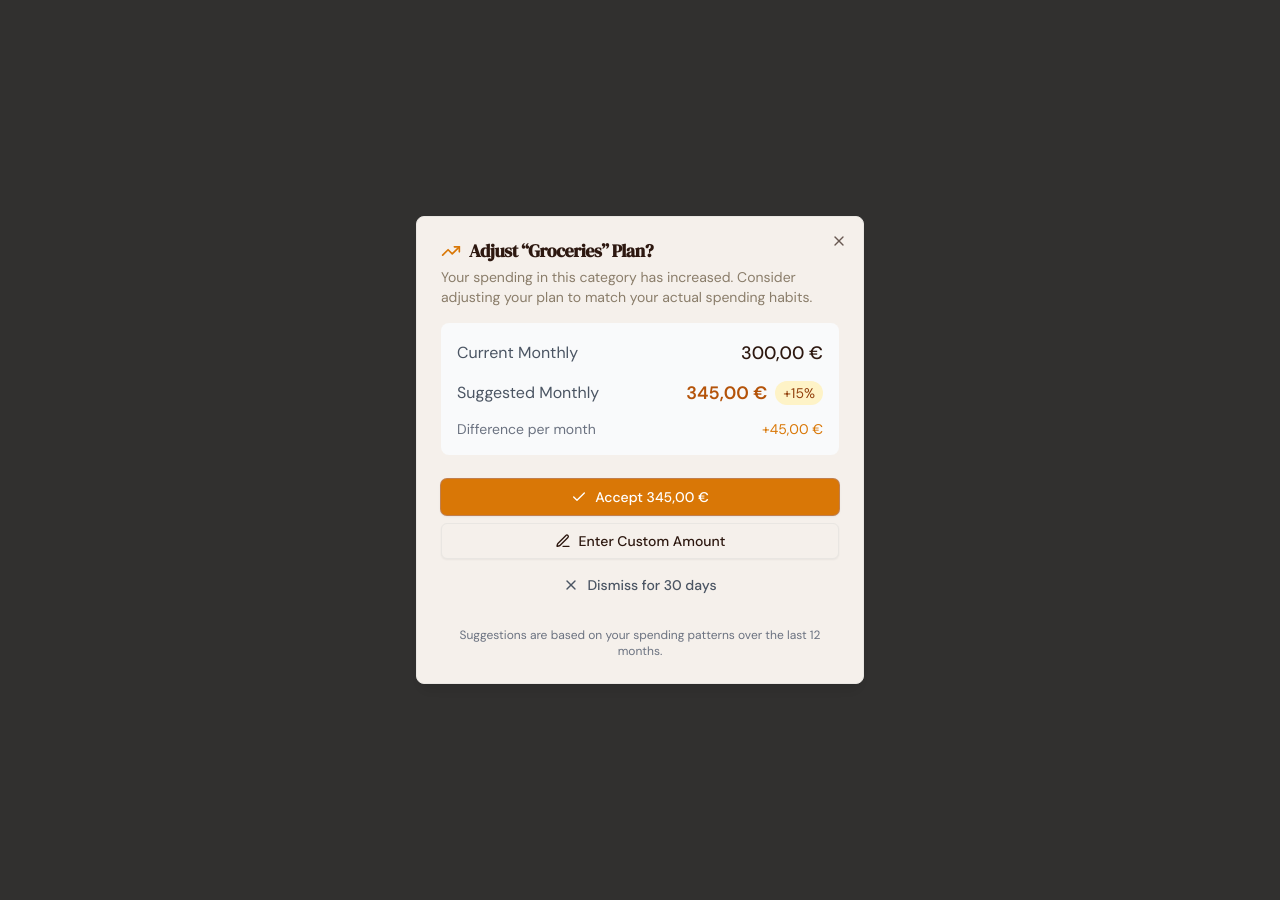
Test case: AdjustmentSuggestionModal › custom amount › should go back to main view when Back is clicked
Step 1. Click the button "Enter Custom Amount" → (640, 541), box [441,523,839,559]
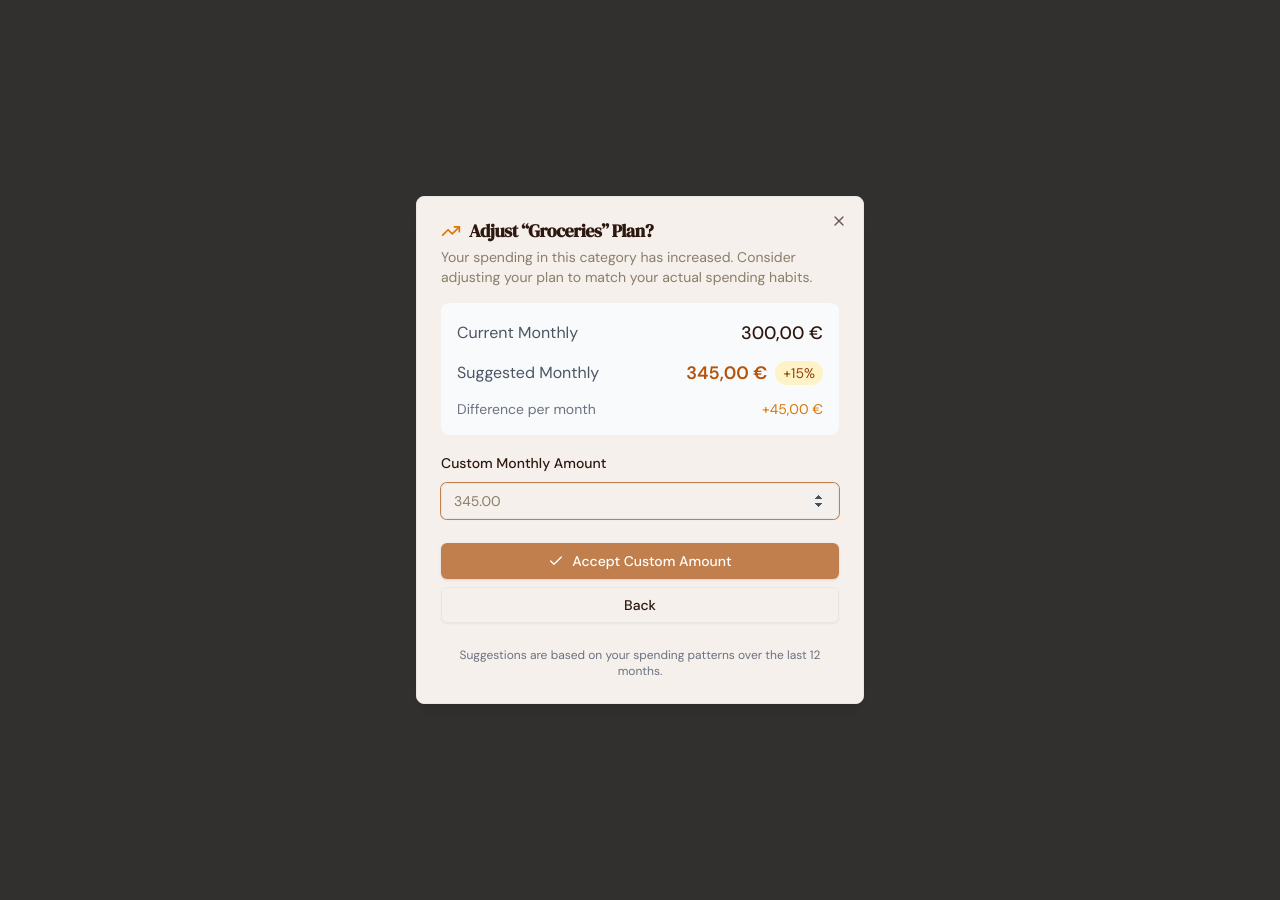
# Click back
Step 2. Click the button "Back" → (640, 605), box [441,587,839,623]
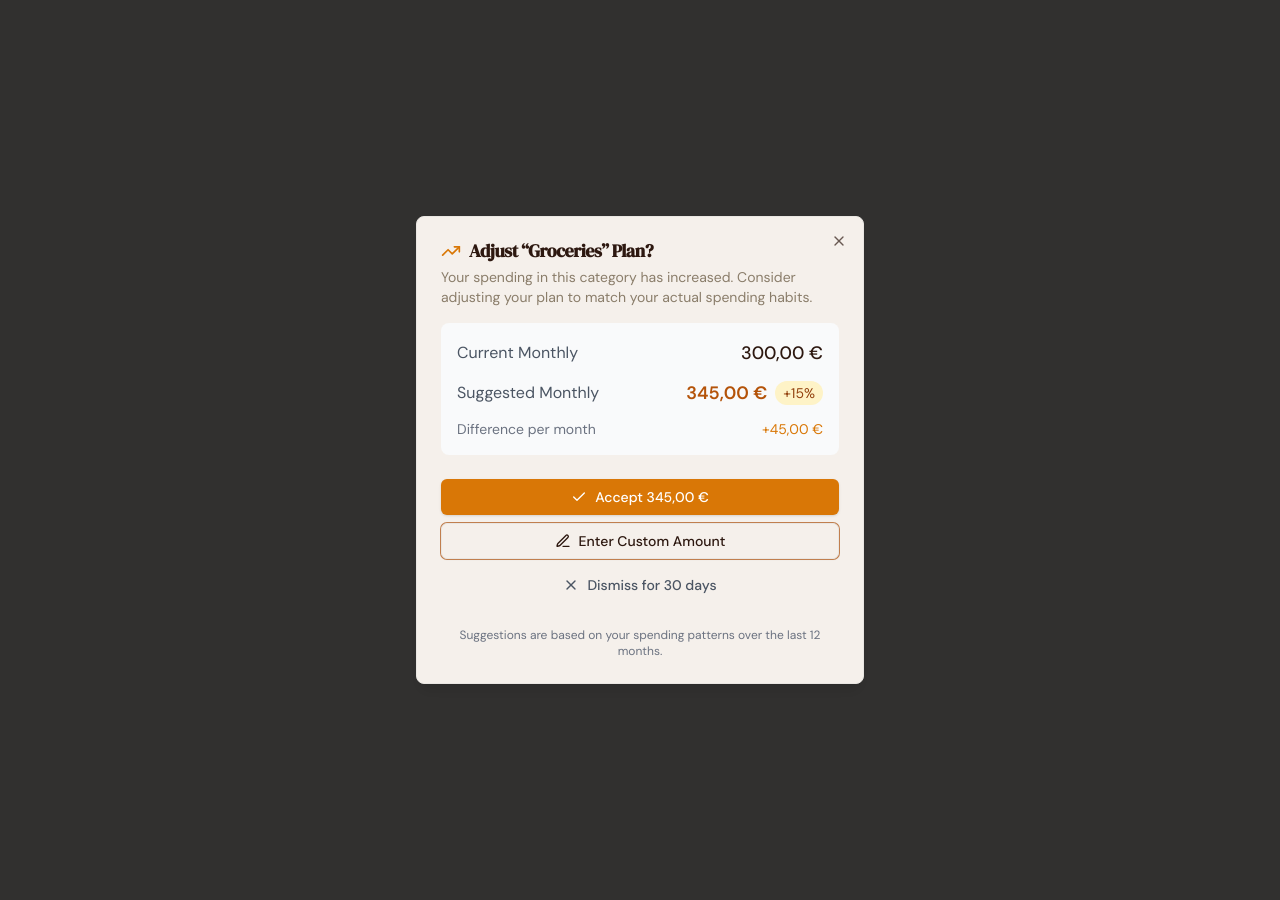
Now the button "Enter Custom Amount" is shown, box [441,523,839,559]
